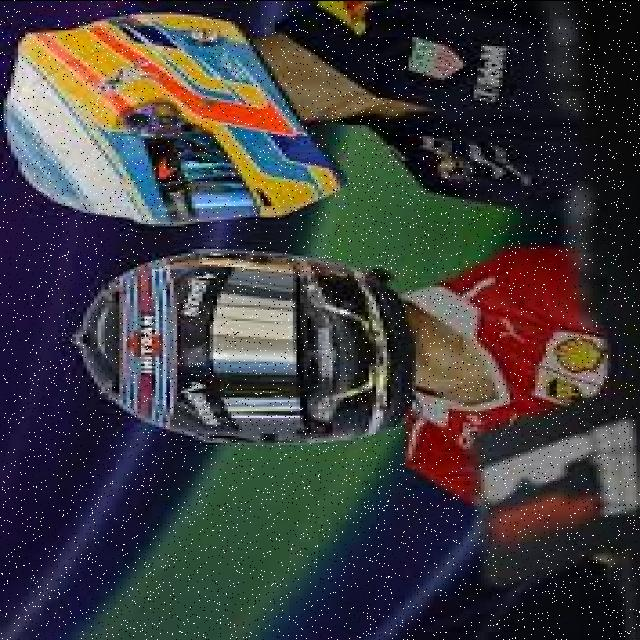Helmet: (6, 15, 341, 224), (74, 250, 411, 441)
